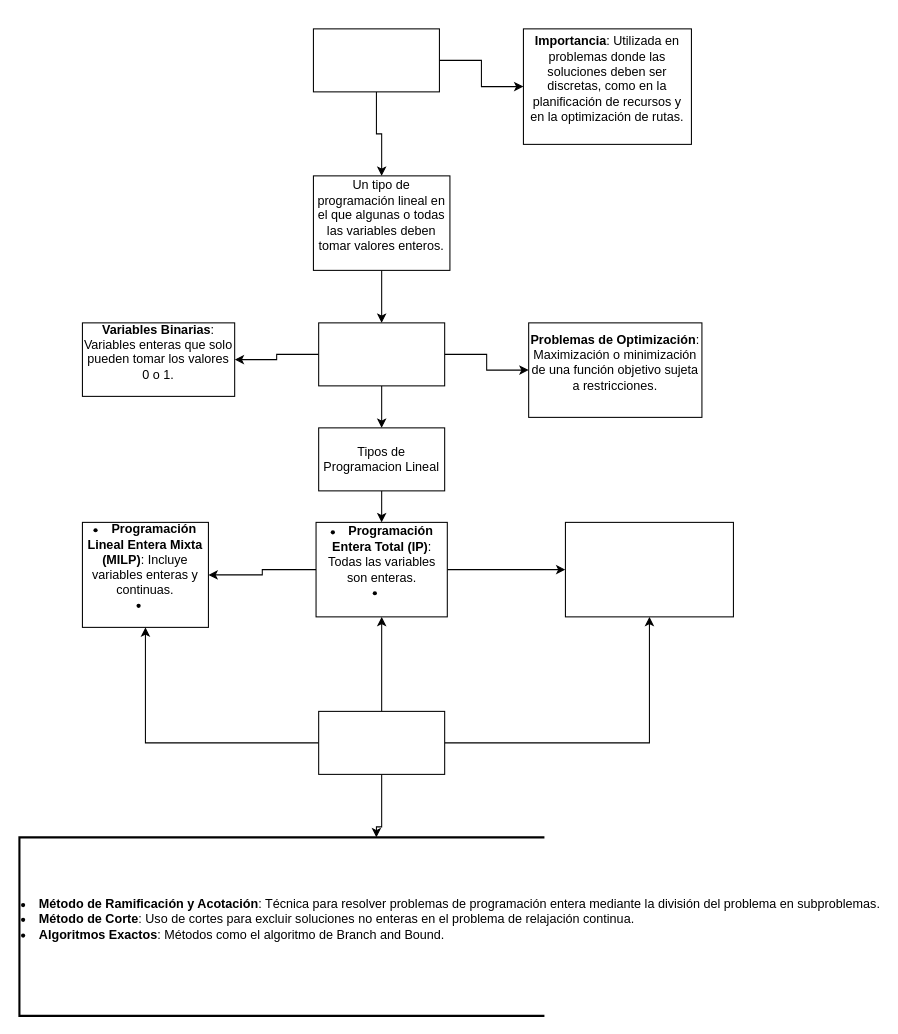
The diagram is 898 pixels wide and 1034 high, and some of its shapes have lost their labels. The shapes that lost their labels are listed below. From the top down, each one's centre as x and y in pixels, then its label:
the point at 375,60: Programacion Lineal Entera
the point at 381,354: Variables Enteras : Variables que deben ser números enteros.
the point at 648,569: Programación Binaria (BIP) : Todas las variables son binarias.
the point at 381,742: Tipos de Resolucion
